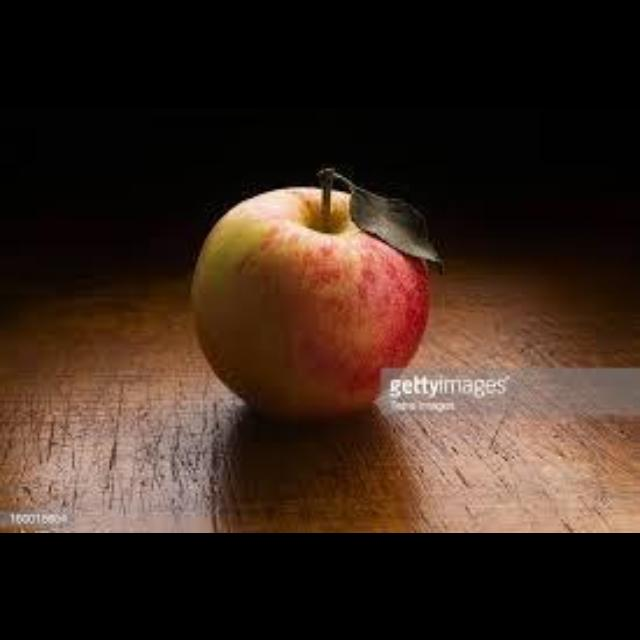apple: (193, 168, 440, 417)
